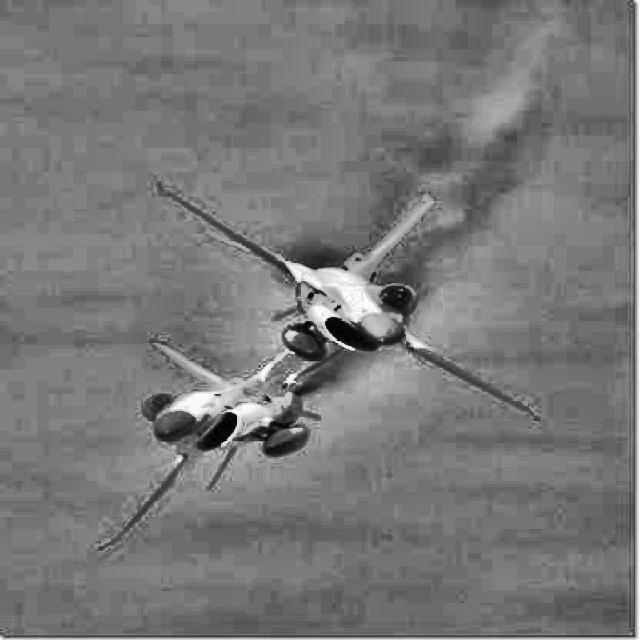F16: (155, 178, 543, 422), (94, 328, 340, 552)
